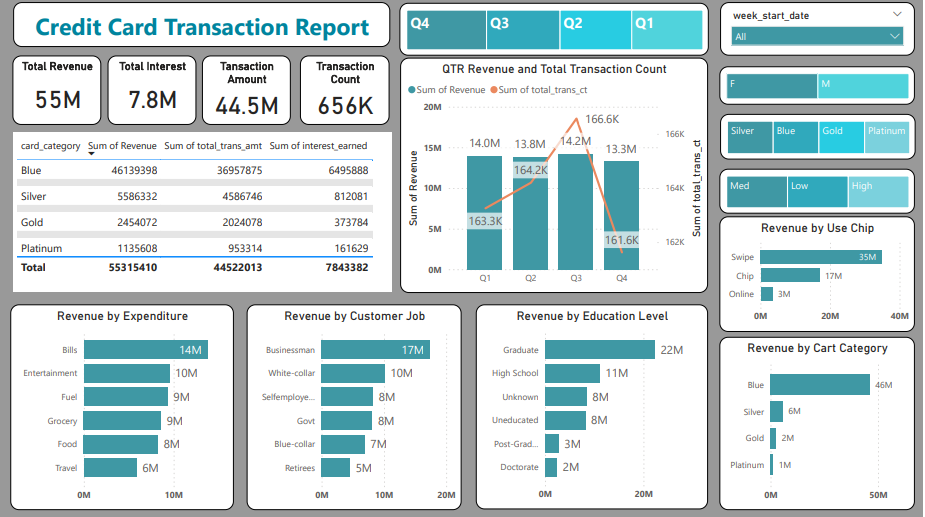

This screenshot's page, from the dashboard's own definition file:
{"tool":"powerbi","page":{"name":"CC Transaction","canvas":[1280,720],"ordinal":1},"visuals":[{"type":"textbox","box":[17.8,4.1,522.8,61.7],"z":0},{"type":"lineStackedColumnComboChart","title":"QTR Revenue and Total Transaction Count","fields":{"Category":["public cc_detail.qtr"],"Y":["Sum(public cc_detail.Revenue)"],"Y2":["Sum(public cc_detail.total_trans_ct)"]},"box":[554.7,81.1,427.2,325.9],"z":1000},{"type":"barChart","title":"Revenue by Expenditure","fields":{"Y":["Sum(public cc_detail.Revenue)"],"Category":["public cc_detail.exp_type"]},"box":[14.5,422.9,309.9,285.3],"z":2000},{"type":"barChart","title":"Revenue by Education Level","fields":{"Y":["Sum(public cc_detail.Revenue)"],"Category":["public cust_detail.education_level"]},"box":[660.4,422.9,321.5,283.9],"z":3000},{"type":"barChart","title":"Revenue by Customer Job","fields":{"Y":["Sum(public cc_detail.Revenue)"],"Category":["public cust_detail.customer_job"]},"box":[341.8,422.9,298.3,285.3],"z":4000},{"type":"barChart","title":"Revenue by Cart Category","fields":{"Y":["Sum(public cc_detail.Revenue)"],"Category":["public cc_detail.card_category"]},"box":[997.9,467.8,270.8,240.4],"z":5000},{"type":"barChart","title":"Revenue by Use Chip","fields":{"Y":["Sum(public cc_detail.Revenue)"],"Category":["public cc_detail.use_chip"]},"box":[997.9,301.2,270.8,159.3],"z":6000},{"type":"tableEx","fields":{"Values":["public cc_detail.card_category","Sum(public cc_detail.Revenue)","Sum(public cc_detail.total_trans_amt)","Sum(public cc_detail.interest_earned)"]},"box":[17.8,185.2,525.6,220.9],"z":7000},{"type":"card","title":"Total Revenue","fields":{"Values":["Sum(public cc_detail.Revenue)"]},"box":[17.4,78.2,123.1,95.6],"z":8000},{"type":"card","title":"Tansaction Amount","fields":{"Values":["Sum(public cc_detail.total_trans_amt)"]},"box":[279.5,78.2,123.1,95.6],"z":9000},{"type":"card","title":"Total Interest","fields":{"Values":["Sum(public cc_detail.interest_earned)"]},"box":[149.2,78.2,123.1,95.6],"z":10000},{"type":"card","title":"Transaction Count","fields":{"Values":["Sum(public cc_detail.total_trans_ct)"]},"box":[415.7,78.2,124.6,95.6],"z":11000},{"type":"slicer","fields":{"Values":["public cc_detail.week_start_date"]},"box":[999,4.1,270.3,74.1],"z":12000},{"type":"treemap","fields":{"Group":["public cc_detail.qtr"],"Values":["Avg(public cc_detail.client_num)"]},"box":[554.4,5.5,428.1,72.7],"z":13000},{"type":"treemap","fields":{"Group":["public cust_detail.gender"],"Values":["Avg(public cc_detail.client_num)"]},"box":[997.9,92.7,270.8,53.6],"z":14000},{"type":"treemap","fields":{"Group":["public cc_detail.card_category"],"Values":["Avg(public cc_detail.client_num)"]},"box":[999.3,159.3,270.8,62.3],"z":15000},{"type":"treemap","fields":{"Group":["public cust_detail.IncomeGroup"],"Values":["Avg(public cc_detail.client_num)"]},"box":[997.9,234.6,270.8,62.3],"z":16000}]}

Visuals, with their boxes in screenshot pixels (x1, y1, x2, y2), scaled from the page's 1280x720 canvas onto the 925x517 screenshot:
textbox: [x1=13, y1=3, x2=391, y2=47]
"QTR Revenue and Total Transaction Count" lineStackedColumnComboChart: [x1=401, y1=58, x2=710, y2=292]
"Revenue by Expenditure" barChart: [x1=10, y1=304, x2=234, y2=509]
"Revenue by Education Level" barChart: [x1=477, y1=304, x2=710, y2=508]
"Revenue by Customer Job" barChart: [x1=247, y1=304, x2=463, y2=509]
"Revenue by Cart Category" barChart: [x1=721, y1=336, x2=917, y2=509]
"Revenue by Use Chip" barChart: [x1=721, y1=216, x2=917, y2=331]
tableEx - public cc_detail.card_category x Sum(public cc_detail.Revenue): [x1=13, y1=133, x2=393, y2=292]
"Total Revenue" card: [x1=13, y1=56, x2=102, y2=125]
"Tansaction Amount" card: [x1=202, y1=56, x2=291, y2=125]
"Total Interest" card: [x1=108, y1=56, x2=197, y2=125]
"Transaction Count" card: [x1=300, y1=56, x2=390, y2=125]
slicer - public cc_detail.week_start_date: [x1=722, y1=3, x2=917, y2=56]
treemap - public cc_detail.qtr x Avg(public cc_detail.client_num): [x1=401, y1=4, x2=710, y2=56]
treemap - public cust_detail.gender x Avg(public cc_detail.client_num): [x1=721, y1=67, x2=917, y2=105]
treemap - public cc_detail.card_category x Avg(public cc_detail.client_num): [x1=722, y1=114, x2=918, y2=159]
treemap - public cust_detail.IncomeGroup x Avg(public cc_detail.client_num): [x1=721, y1=168, x2=917, y2=213]
